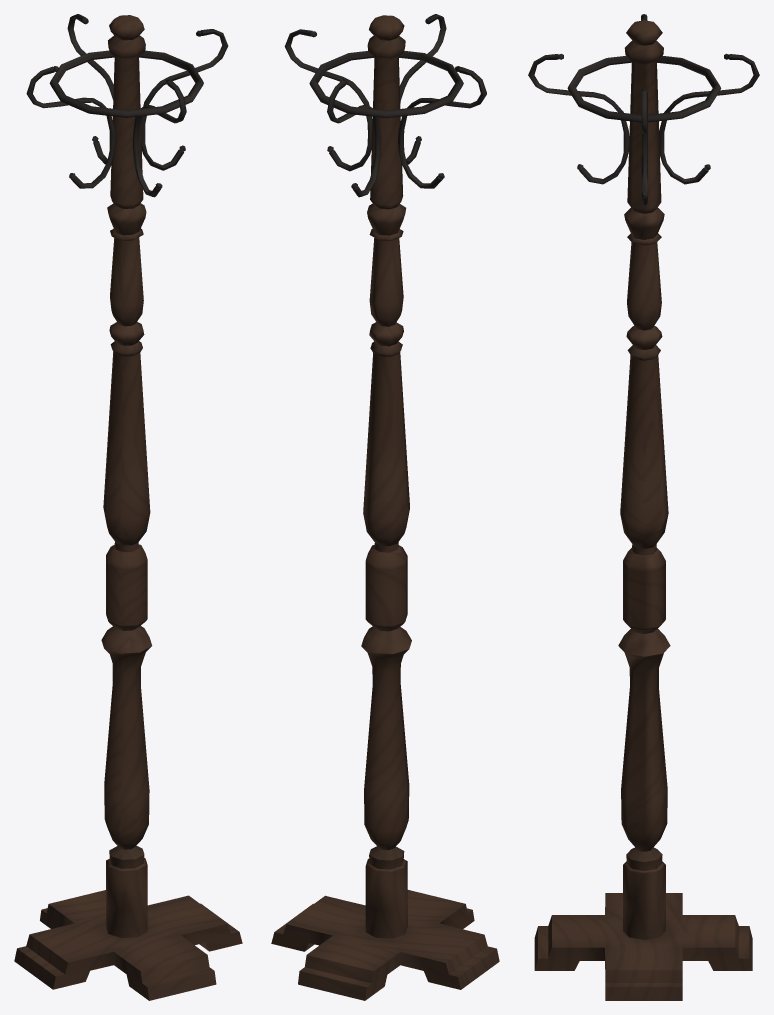
Rendered from CoatRack.fbx.
3 views of the same model, side by side, from view 1: azimuth 30°, elevation 25°; view 2: azimuth 150°, elevation 25°; view 3: azimuth 270°, elevation 25° (orthographic).
Visible parts, largest first — view 1: polySurface17; view 2: polySurface17; view 3: polySurface17.
Part boxes in pixels (x1=…): polySurface17: x1=14, y1=14, x2=242, y2=1000; polySurface17: x1=271, y1=14, x2=499, y2=1000; polySurface17: x1=528, y1=14, x2=759, y2=1000.
Size of the model in its own units: 15.79 by 70.2 by 15.8.
